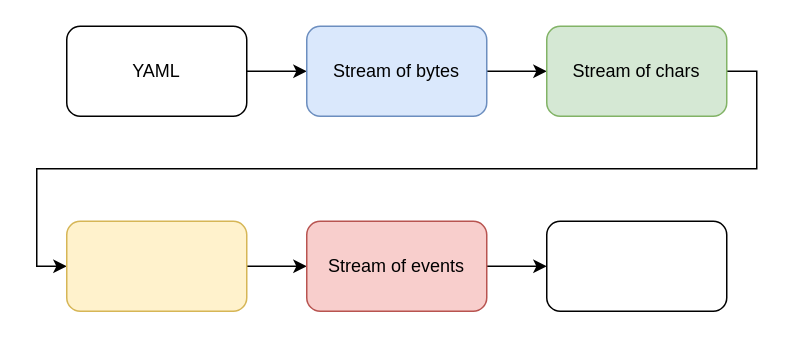
Image size: 795x338. Some labels were removed from this diagram. The centre of each missing label's shape, as x and y in pixels:
"Node tree" goes at [636,265].
"Stream of tokens" goes at [156,265].
